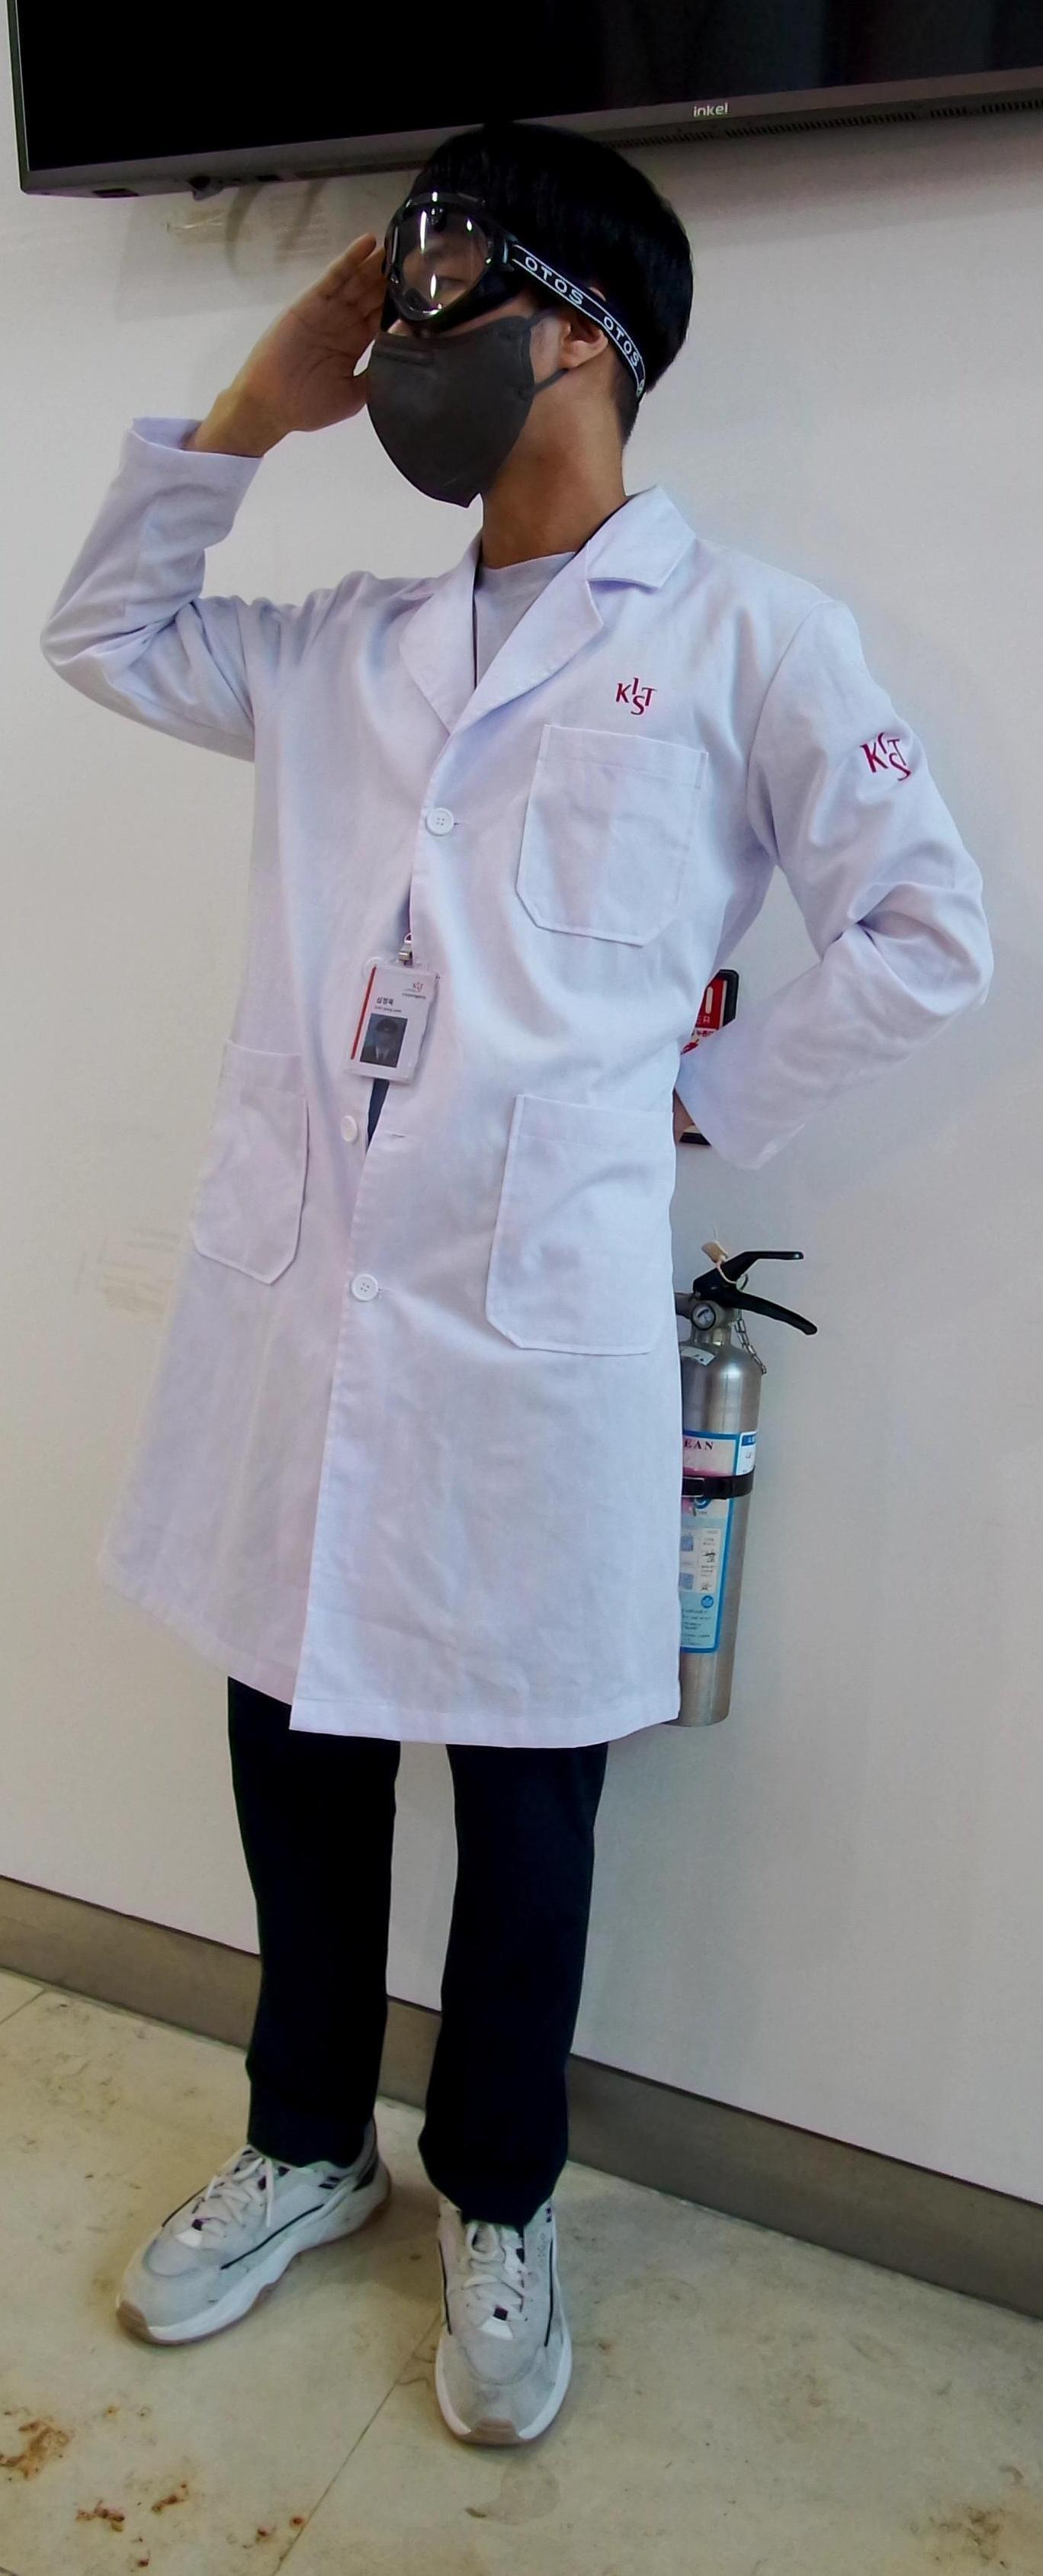lab_coat: (141, 559, 737, 1779)
